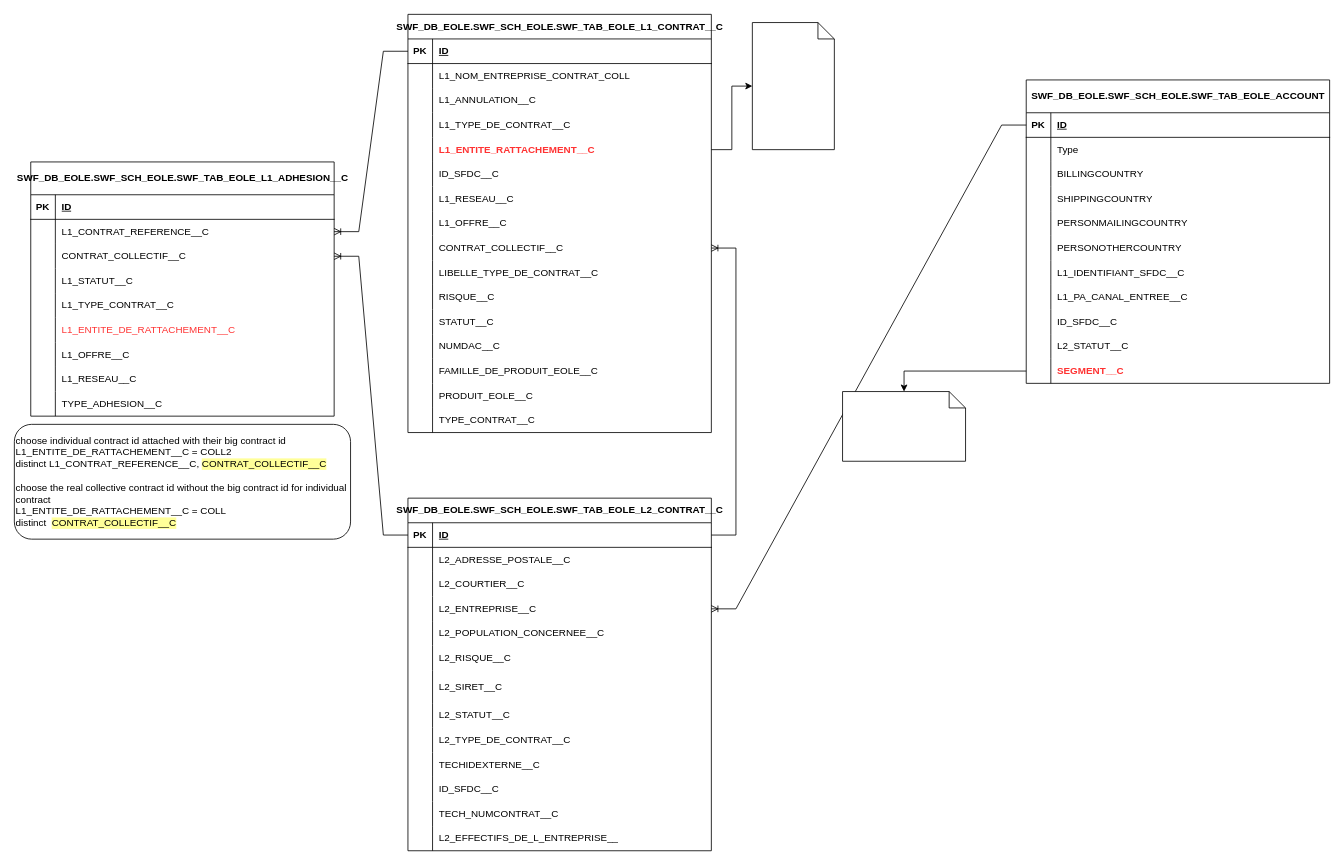
Some shapes in this 1344 by 865 pixel diagram are drawn without their labels. The centre of each missing label's shape, as x and y in pixels:
"COLL COLL2 None STATUT NR ND GMF MG" belongs at point 793,86.
"TNS TPE-PME Gd comptes" belongs at point 904,426.
